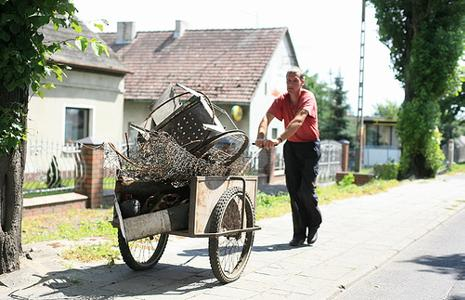person: (252, 69, 325, 249)
